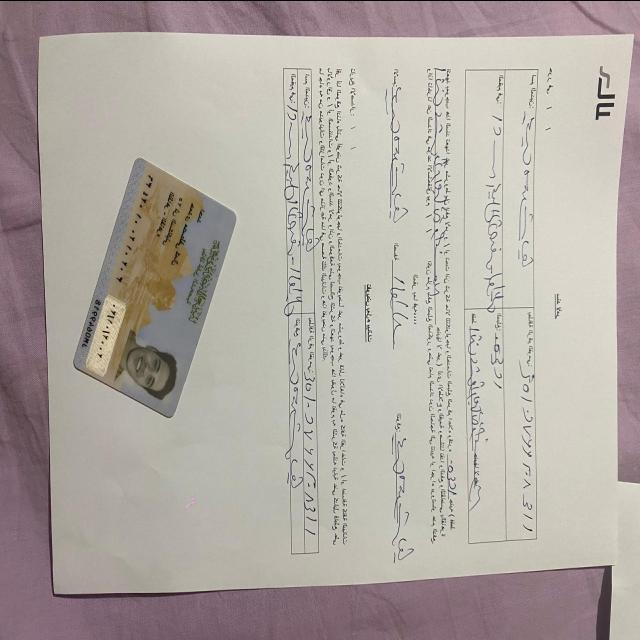id_card: (67, 149, 242, 425)
